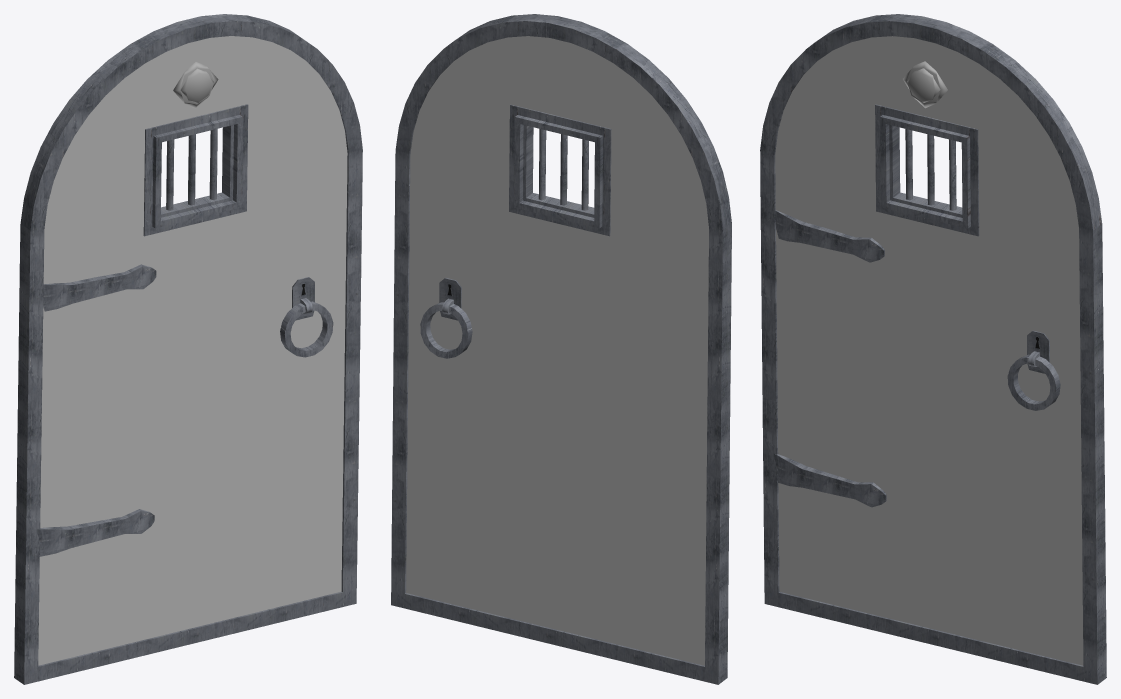
The model's file is Porta.fbx.
3 views of the same model, side by side, from view 1: azimuth 30°, elevation 25°; view 2: azimuth 150°, elevation 25°; view 3: azimuth 330°, elevation 25° (orthographic).
Visible parts, largest first — view 1: polySurface18, polySurface14, pCube2, polySurface16, pCube4; view 2: polySurface18, polySurface15, polySurface17; view 3: polySurface18, polySurface14, pCube2, polySurface16, pCube4.
Part boxes in pixels (x1,y1,x2,y2): polySurface18: (14, 14, 362, 684); polySurface14: (280, 301, 333, 357); pCube2: (180, 68, 213, 103); polySurface16: (292, 277, 314, 320); pCube4: (173, 62, 218, 108); polySurface18: (391, 14, 731, 684); polySurface15: (420, 302, 472, 358); polySurface17: (439, 277, 461, 320); polySurface18: (760, 14, 1106, 684); polySurface14: (1007, 354, 1060, 410); pCube2: (907, 68, 940, 102); polySurface16: (1027, 330, 1049, 373); pCube4: (903, 61, 947, 108).
Bounding box in the file's own units: 108 × 193 × 13.94.
